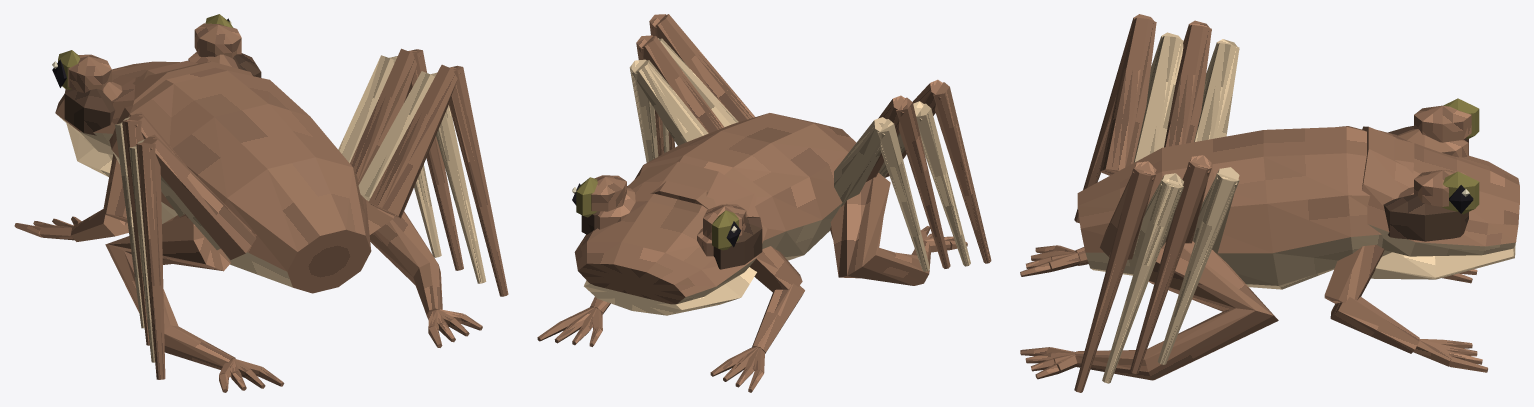
File: mon_wood_worm.glb
The picture shows the model from 3 angles, left to right: view 1: azimuth 30°, elevation 25°; view 2: azimuth 150°, elevation 25°; view 3: azimuth 270°, elevation 25°; orthographic projection. The views are drawn at different scales.
Parts seen in each view (by area): view 1: closed_body; view 2: closed_body; view 3: closed_body.
Boxes of the visible parts, x1=… form: closed_body: x1=14, y1=14, x2=508, y2=392; closed_body: x1=537, y1=14, x2=991, y2=392; closed_body: x1=1020, y1=14, x2=1519, y2=392.
Bounding box in the file's own units: 0.1366 × 0.0831 × 0.1665.
Materials: 1 (1 with a texture image).
